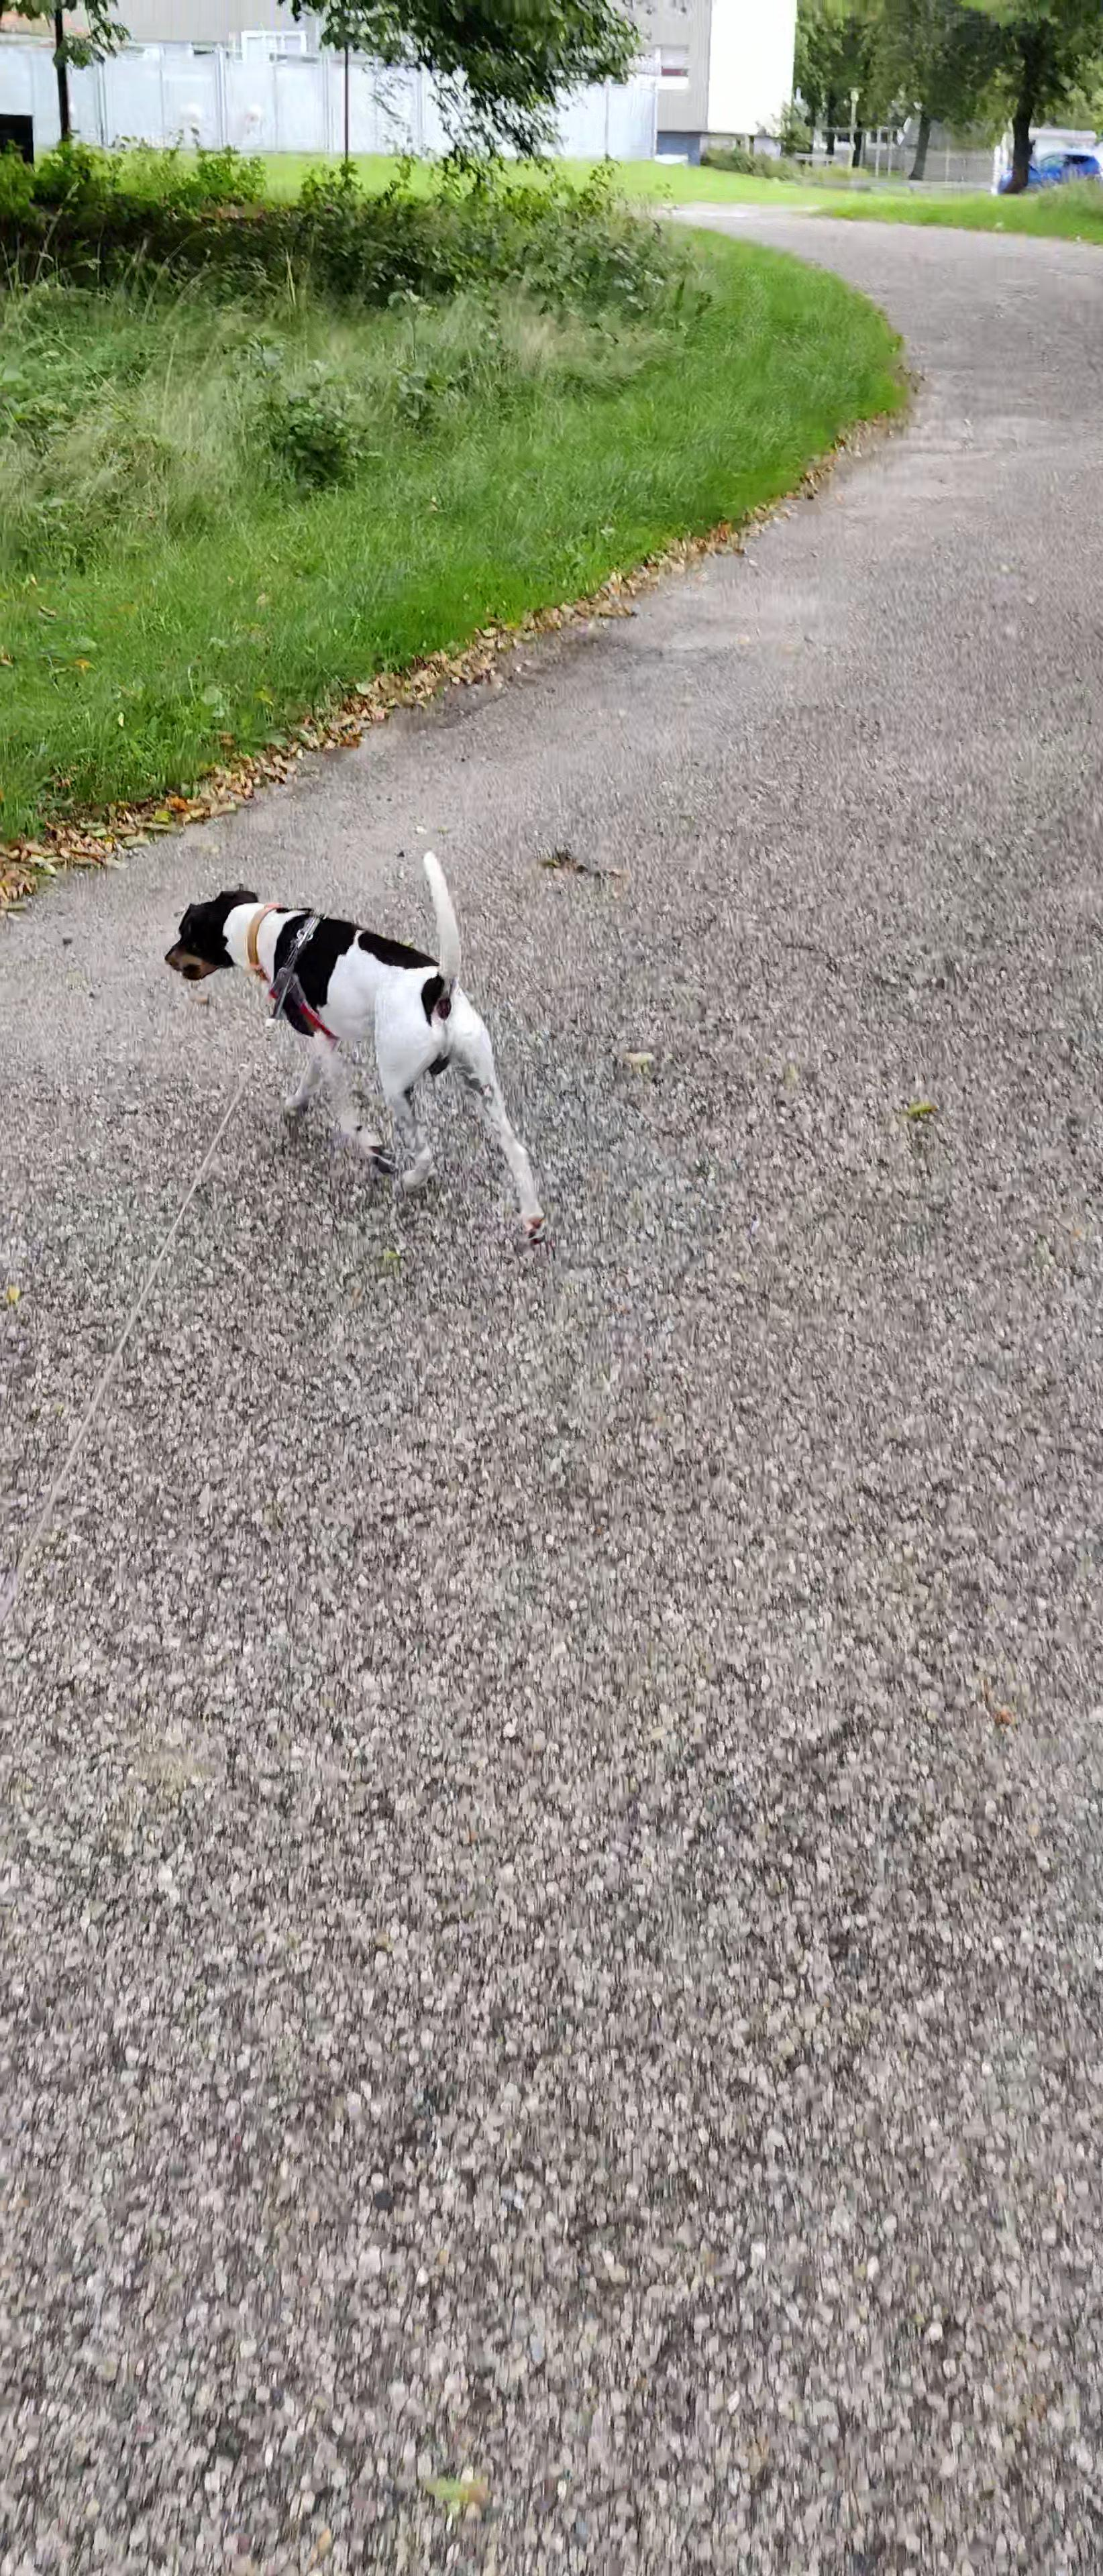Dog: (158, 836, 552, 1239)
